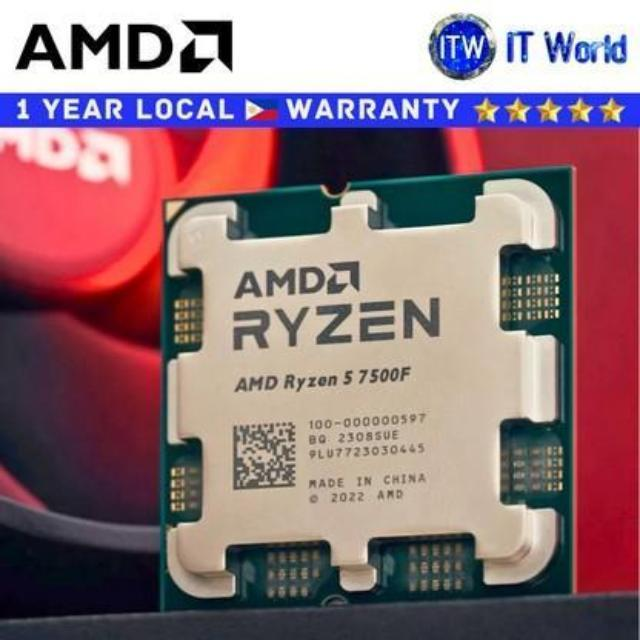CPU: (160, 174, 574, 604)
